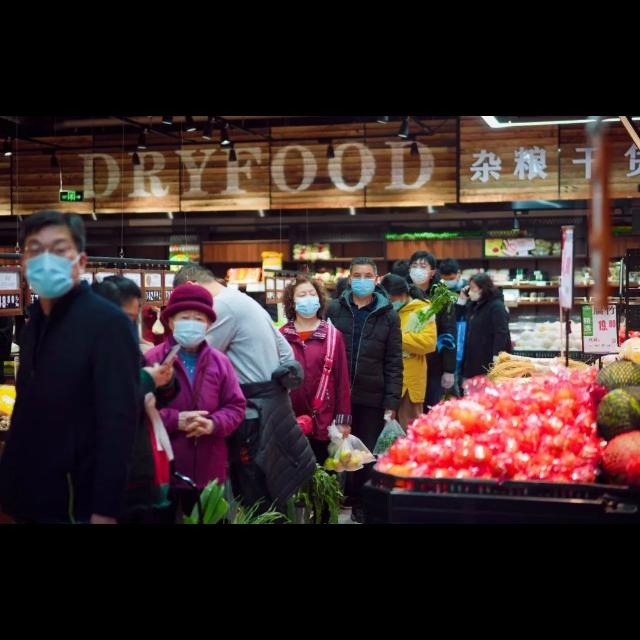masks: (24, 255, 74, 295), (171, 319, 209, 349), (298, 300, 324, 320), (352, 278, 378, 296), (410, 270, 430, 286)
